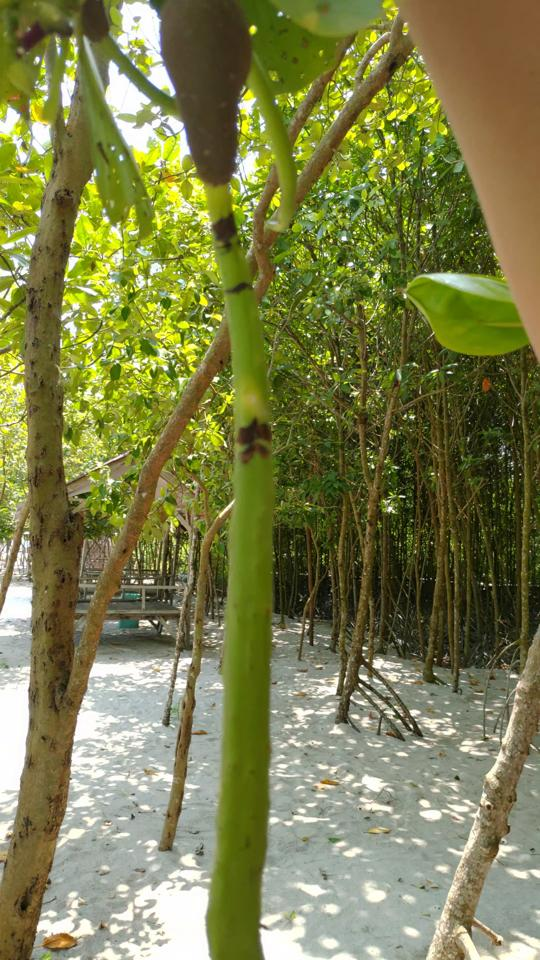setengah matang: (152, 1, 285, 958)
